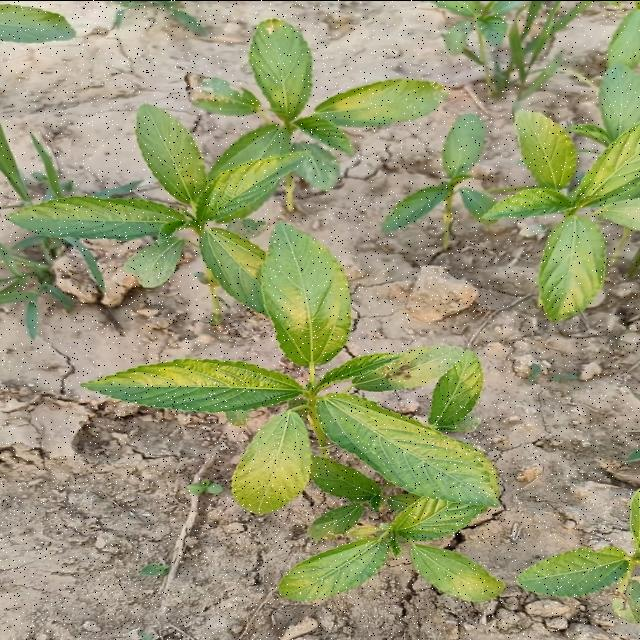plant: (9, 19, 502, 600), (382, 10, 639, 320), (518, 548, 638, 619), (0, 5, 70, 41)
